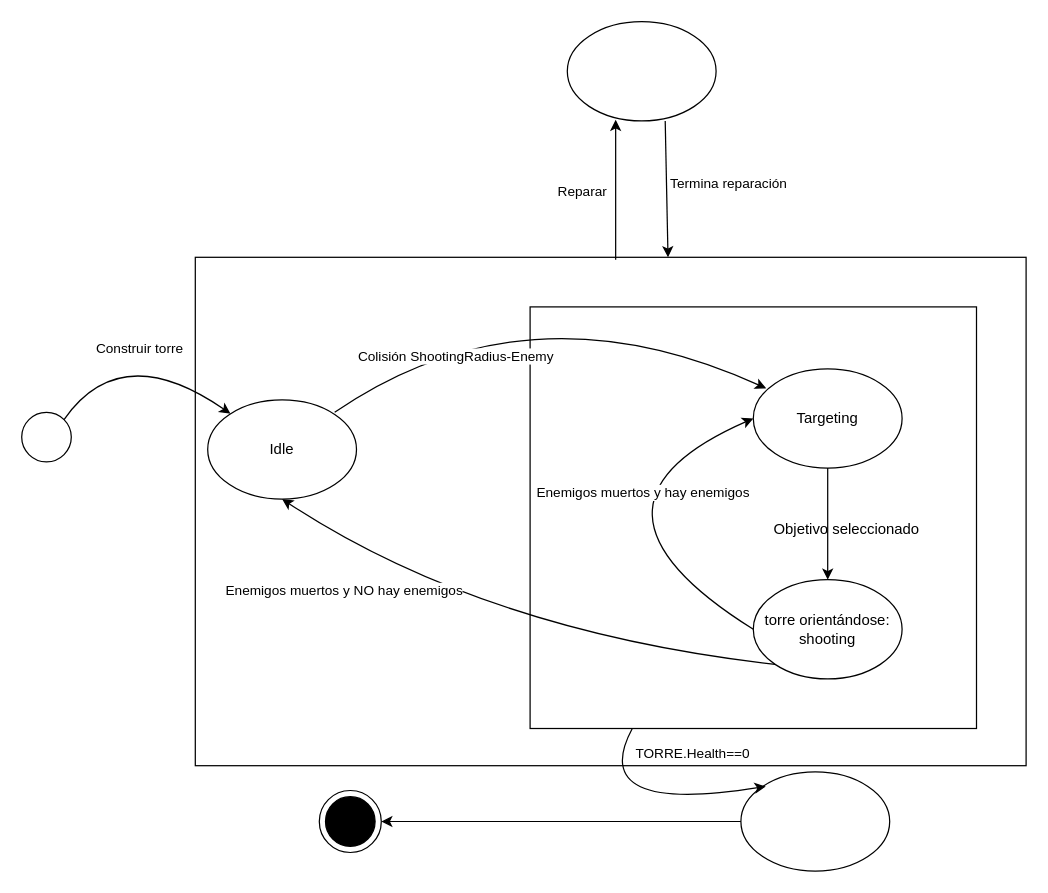
Some shapes in this 1048 by 893 pixel diagram are drawn without their labels. The centre of each missing label's shape, as x and y in pixels:
explosión: finishing: [815,821]
Idle por reparación: [641,70]
